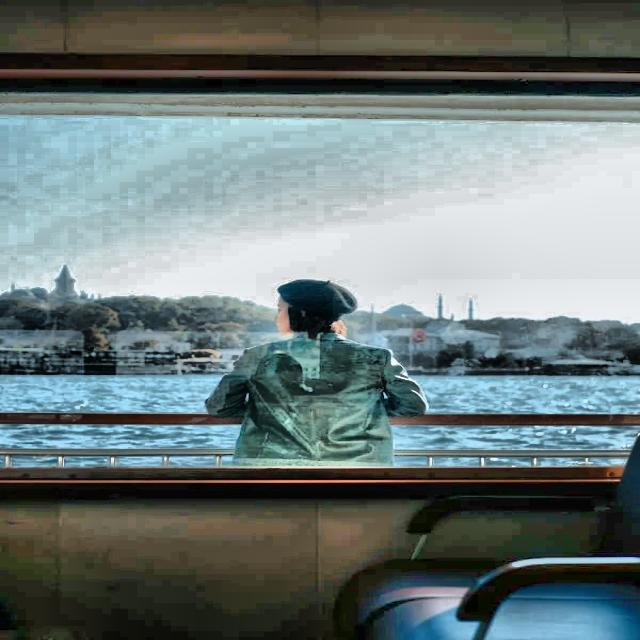Human: (217, 258, 454, 476)
